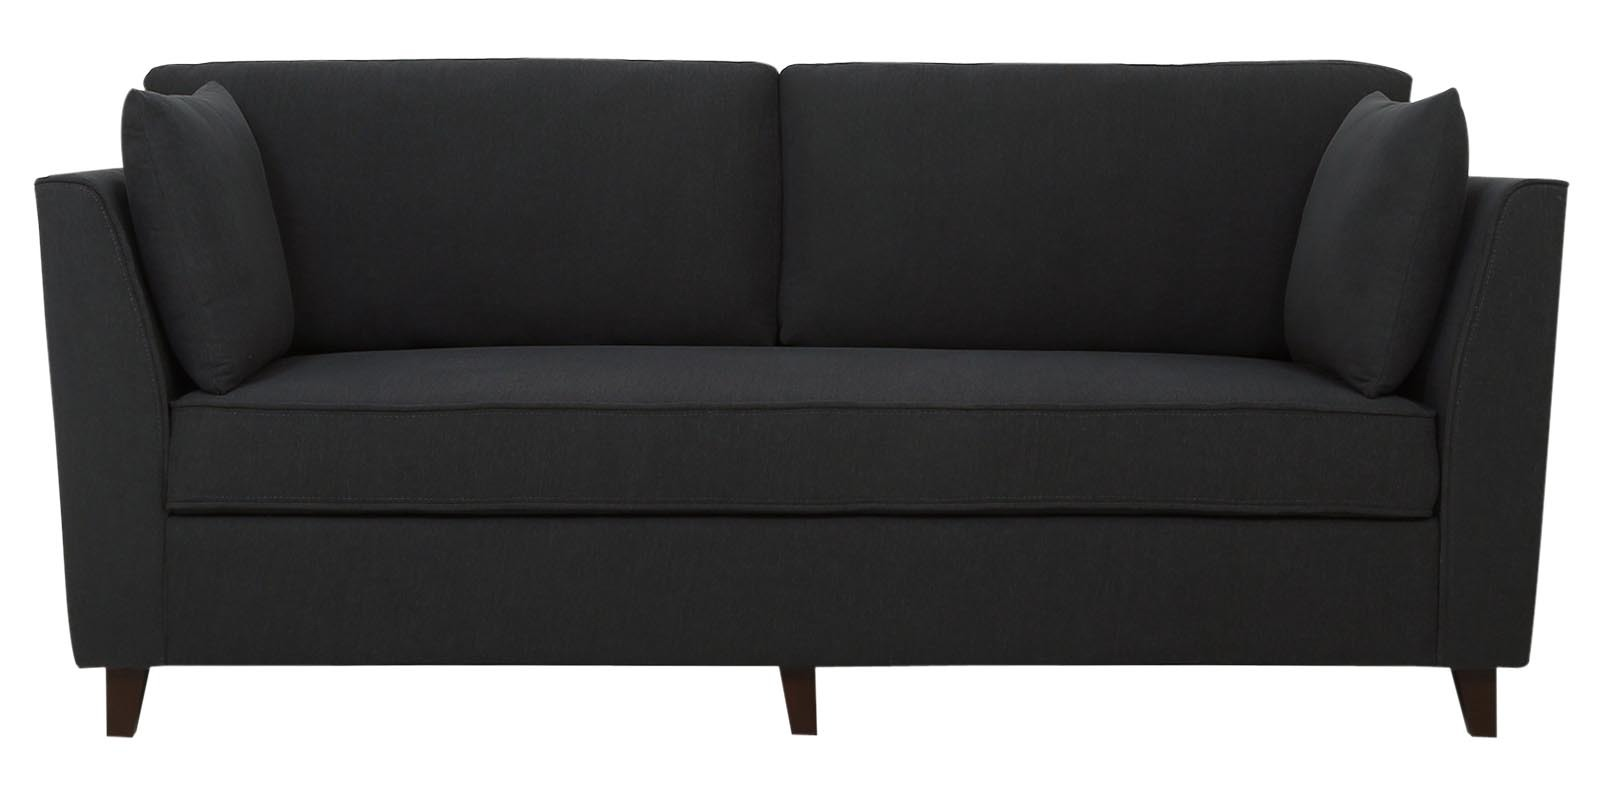Miranda Three Seater Sofa in Charcoal Grey Colour by CasaCraft: (33, 57, 1570, 741)
